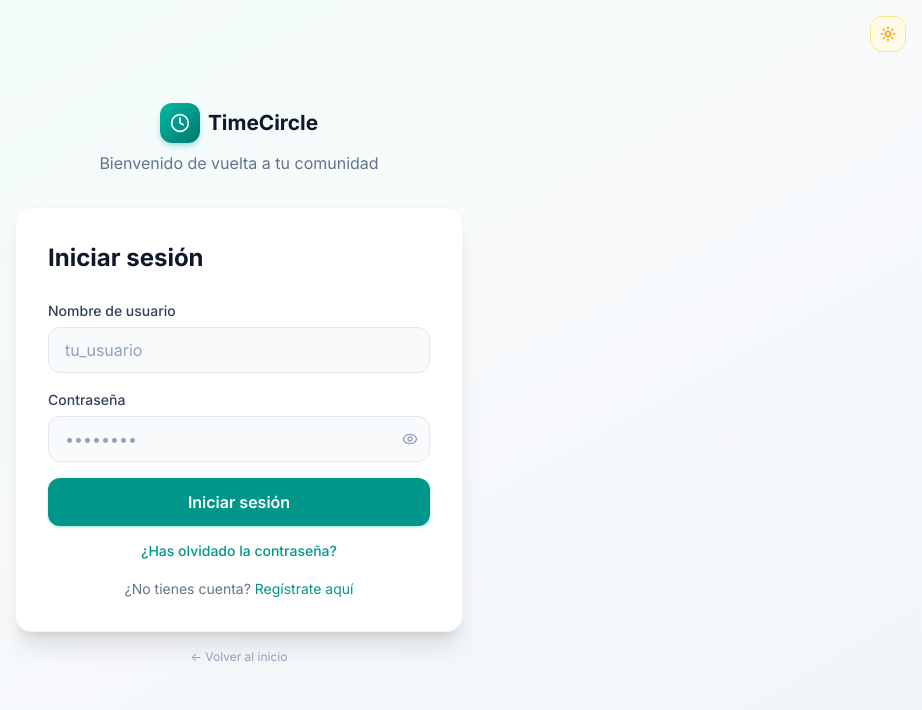
Test: Login page › failed login shows error message
This screenshot has width=922, height=710.
Type "bob" into the field labelled "Nombre de usuario".
click(239, 350); type("bob")  # box [48, 326, 430, 372]
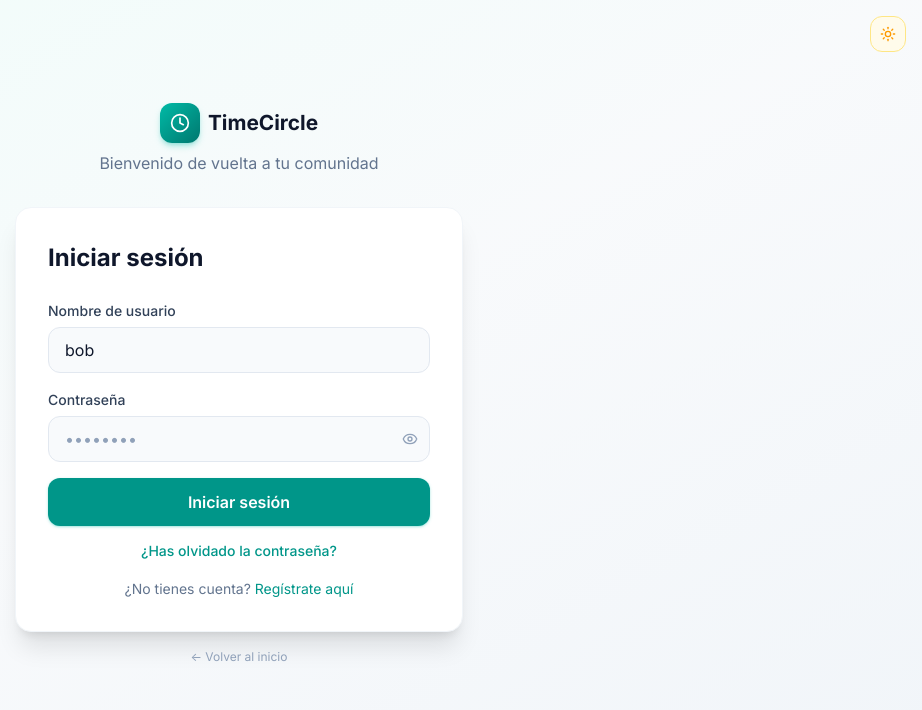
Type "wrong" into the password field labelled "Contraseña".
click(239, 438); type("wrong")  # box [48, 416, 430, 462]
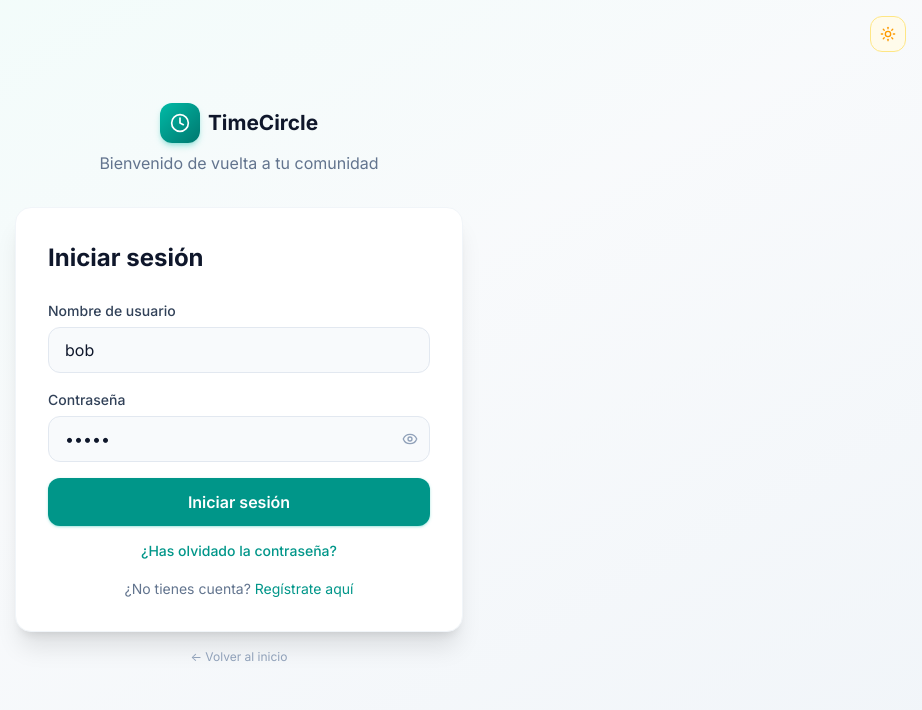
Click the button "Iniciar sesión".
click(239, 502)  # box [48, 478, 430, 526]
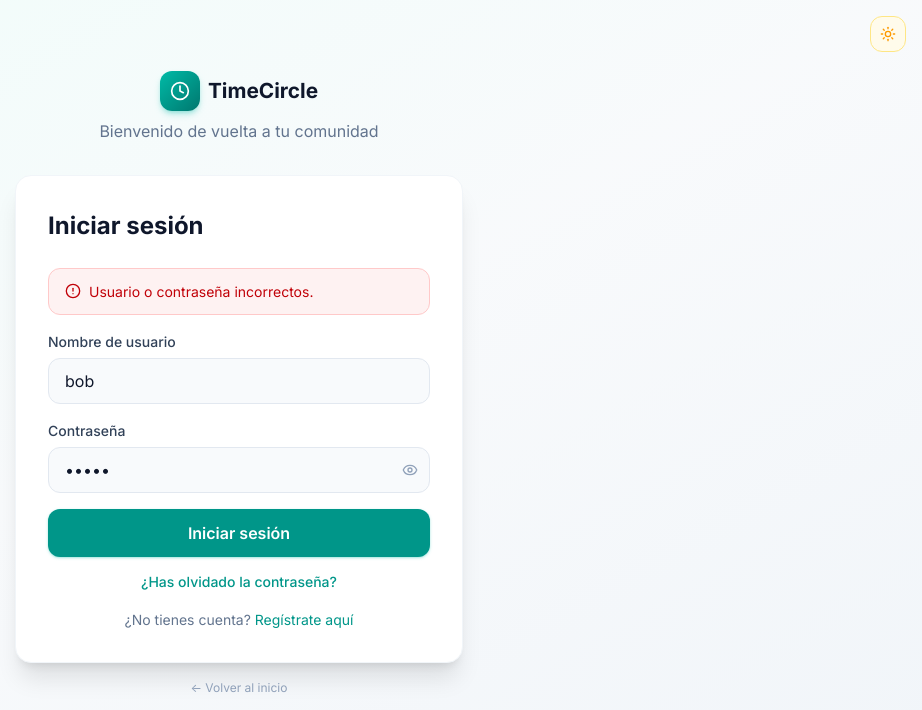
Now the text "Usuario o contraseña incorrectos." is shown, box [89, 281, 313, 302]
